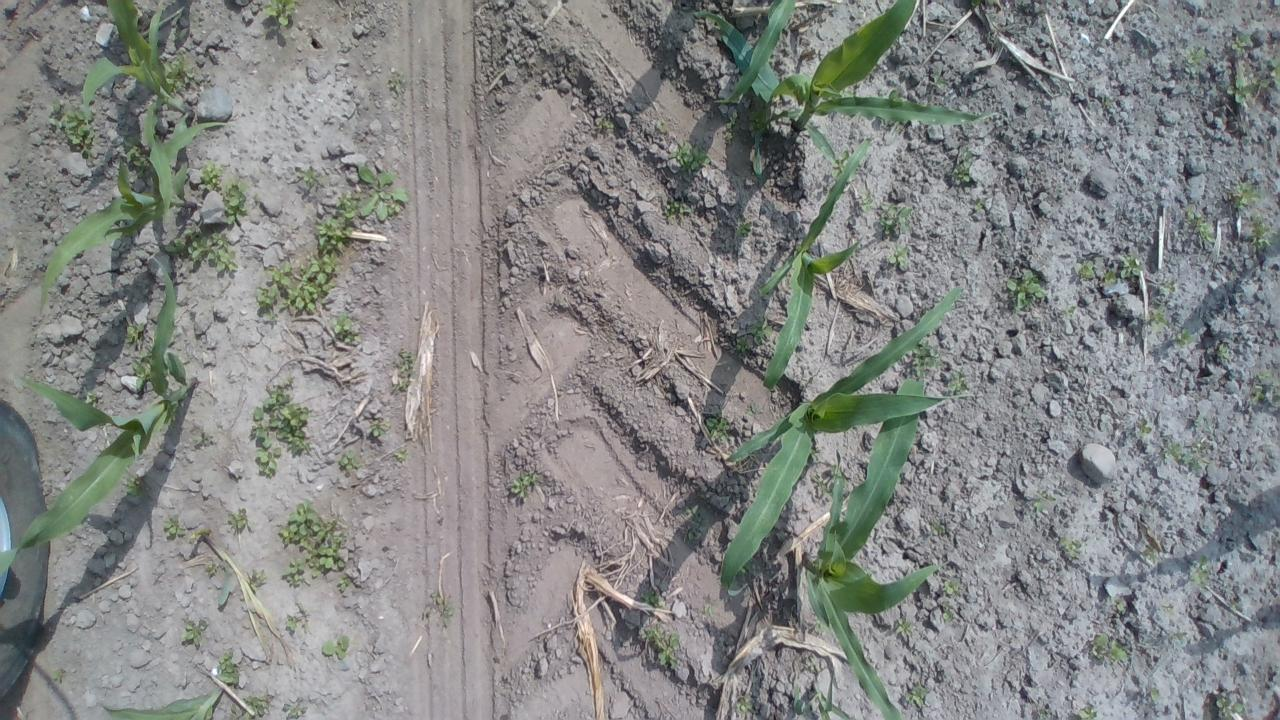Maize: (716, 284, 966, 605), (0, 261, 199, 579), (696, 0, 998, 178), (799, 375, 953, 720), (40, 120, 228, 316), (759, 136, 866, 387), (82, 0, 196, 214), (103, 685, 224, 720), (790, 675, 859, 720)
Weeds: (278, 500, 346, 587), (250, 380, 310, 476), (280, 252, 344, 314), (162, 228, 239, 272), (356, 166, 408, 225), (312, 190, 360, 253), (47, 101, 95, 161), (256, 260, 292, 323), (640, 622, 680, 668), (1005, 270, 1044, 312), (160, 52, 195, 96), (122, 134, 154, 178), (1226, 74, 1270, 105), (1181, 204, 1215, 243), (668, 140, 712, 170), (736, 316, 774, 350), (910, 338, 942, 378), (222, 178, 248, 224), (1091, 634, 1128, 664), (879, 202, 913, 234), (330, 310, 362, 344), (1250, 211, 1279, 248), (1230, 180, 1264, 211), (509, 472, 542, 501), (740, 110, 770, 141), (130, 347, 152, 388), (950, 146, 973, 185), (262, 0, 295, 26), (196, 160, 222, 191), (1182, 443, 1210, 471), (217, 650, 240, 684), (294, 164, 328, 186), (706, 412, 730, 442), (395, 348, 418, 378), (182, 620, 208, 646), (1184, 46, 1208, 74), (322, 635, 349, 659), (830, 149, 851, 179), (242, 695, 270, 717), (1119, 252, 1142, 278), (1217, 696, 1243, 719), (286, 606, 310, 630), (664, 201, 692, 221), (886, 245, 910, 267), (126, 474, 148, 498), (1059, 536, 1083, 558), (1034, 491, 1058, 512), (1149, 304, 1168, 330), (905, 686, 927, 708), (811, 475, 832, 498), (163, 515, 184, 538), (946, 372, 970, 392), (228, 508, 252, 528), (640, 590, 666, 608), (1232, 33, 1254, 54), (245, 569, 267, 590), (124, 323, 145, 344), (1175, 328, 1195, 348), (1194, 557, 1208, 585), (229, 703, 252, 720), (440, 602, 456, 626), (1162, 441, 1182, 460), (388, 72, 407, 92), (340, 453, 362, 470), (283, 703, 307, 718), (370, 420, 390, 437), (860, 188, 874, 212), (1076, 262, 1096, 278), (1269, 57, 1280, 86), (1078, 706, 1100, 720), (895, 618, 912, 636), (170, 29, 188, 45), (736, 694, 752, 712), (885, 89, 907, 102), (186, 528, 209, 540), (930, 74, 946, 91), (941, 580, 960, 594), (1136, 420, 1152, 436), (1102, 268, 1118, 284), (735, 221, 752, 236), (1252, 385, 1266, 403), (942, 601, 954, 622), (931, 518, 946, 534), (682, 503, 701, 515), (1162, 280, 1176, 295), (686, 529, 702, 542), (1110, 597, 1126, 610), (727, 111, 738, 129), (1272, 381, 1280, 405), (395, 378, 411, 390), (595, 119, 614, 129), (85, 391, 96, 408), (1218, 344, 1231, 358), (655, 119, 668, 133), (1161, 602, 1174, 616), (746, 402, 759, 415), (739, 561, 752, 574), (206, 562, 219, 575), (430, 592, 443, 605), (1144, 548, 1158, 560), (1256, 370, 1272, 380), (340, 576, 350, 592), (51, 670, 64, 682), (394, 447, 406, 460), (809, 447, 820, 461), (194, 428, 205, 442), (974, 198, 986, 210), (702, 603, 714, 614), (724, 133, 734, 146), (1228, 601, 1240, 611), (1064, 306, 1074, 318), (1100, 97, 1112, 107), (1149, 688, 1159, 700), (814, 619, 823, 632), (806, 657, 816, 667)
